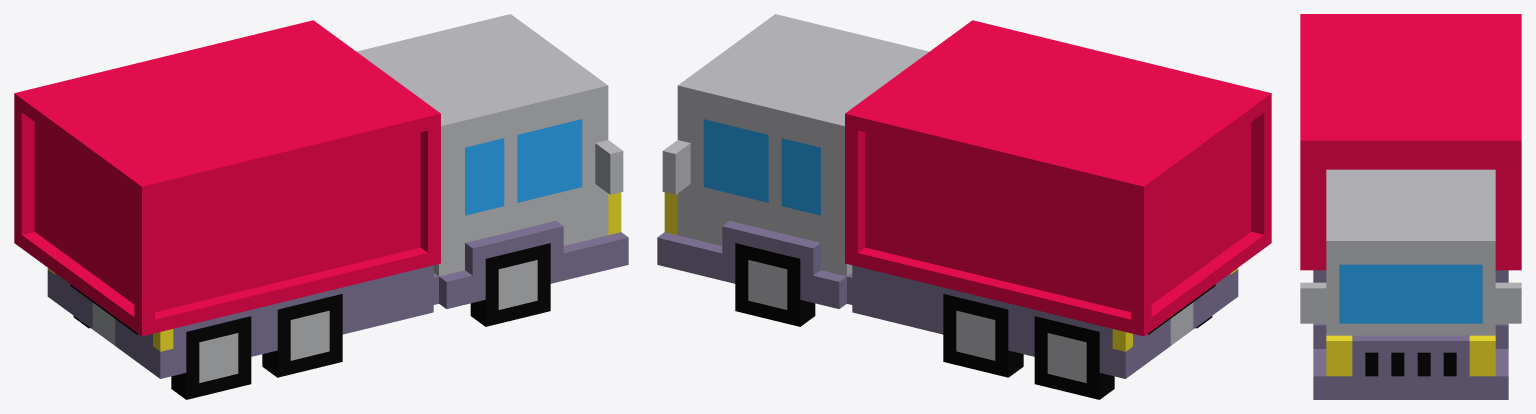
File: truck_b_a.obj
3 renders of one model, left to right at view 1: azimuth 30°, elevation 25°; view 2: azimuth 150°, elevation 25°; view 3: azimuth 270°, elevation 25°, orthographic. The views are drawn at different scales.
Size of the model in its own units: 3.8 by 1.7 by 1.7.
1 material, 1 textured.
